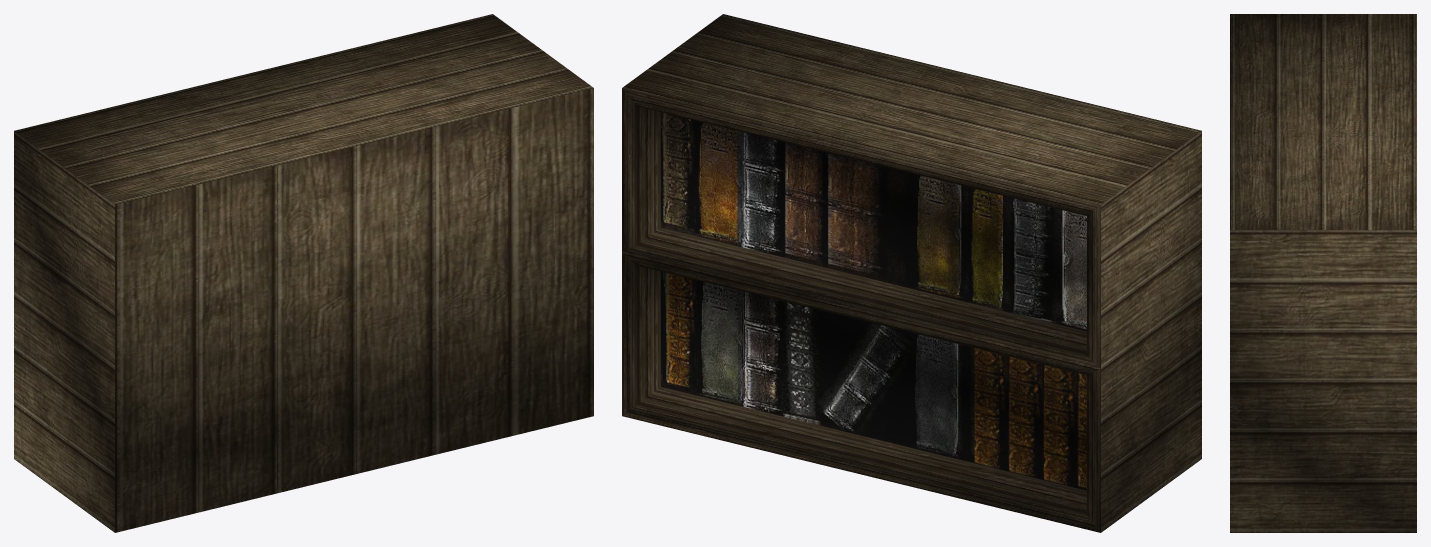
Rendered from GS_VOB_MERCHANT_BOOKSTAND_BROWN_01_KOZA.glb.
3 views of the same model, side by side, from view 1: azimuth 30°, elevation 25°; view 2: azimuth 150°, elevation 25°; view 3: azimuth 270°, elevation 25° (orthographic). The views are drawn at different scales.
Parts seen in each view (by area): view 1: Mesh; view 2: Mesh; view 3: Mesh.
Boxes of the visible parts, box(x1,y1,x2,y2) form: Mesh: box(14, 14, 593, 532); Mesh: box(622, 14, 1201, 532); Mesh: box(1230, 14, 1416, 532).
Bounding box in the file's own units: 0.9054 × 0.5929 × 0.3312.
3 materials, 3 textured.
